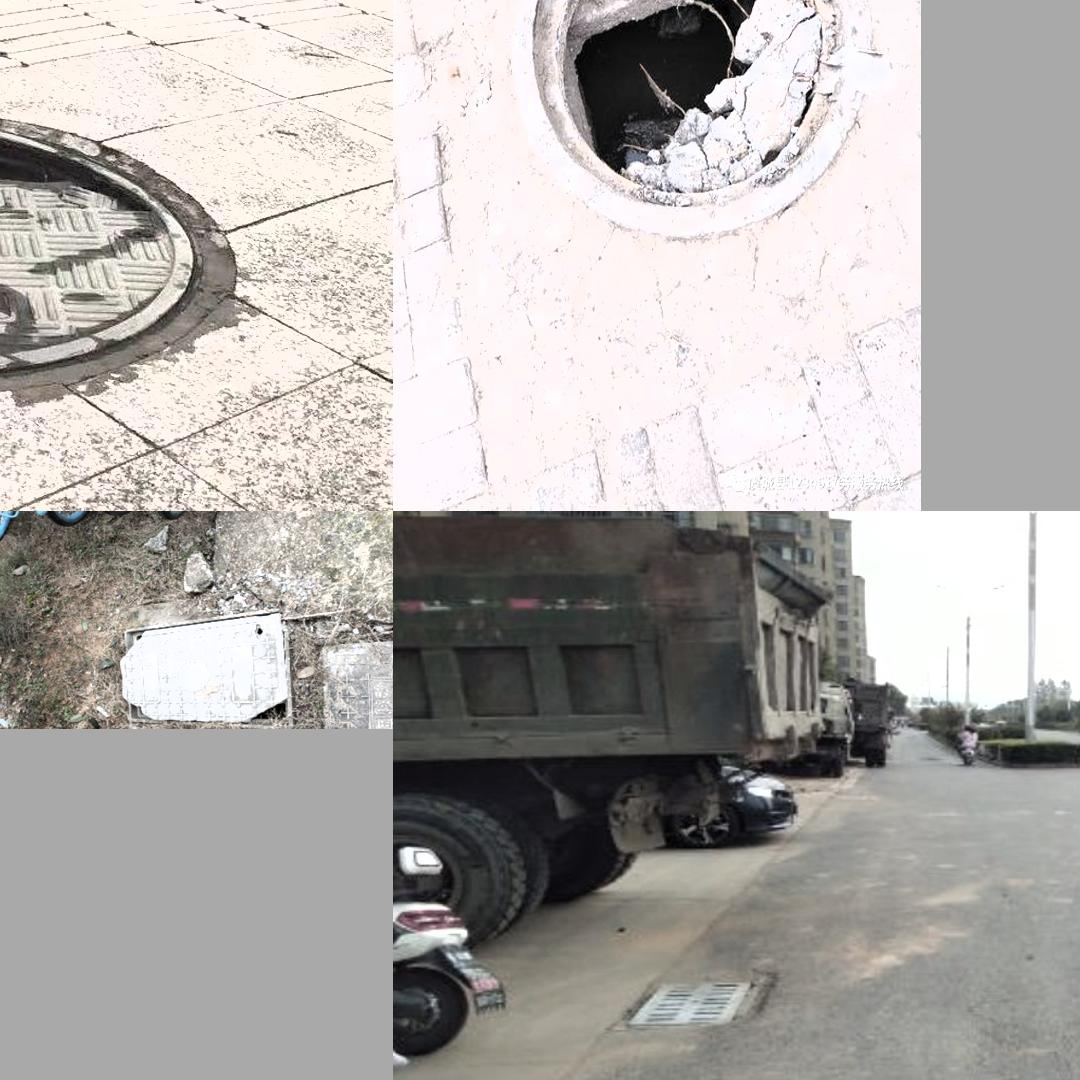broke: (459, 0, 898, 254), (0, 116, 200, 381), (115, 627, 297, 723)
